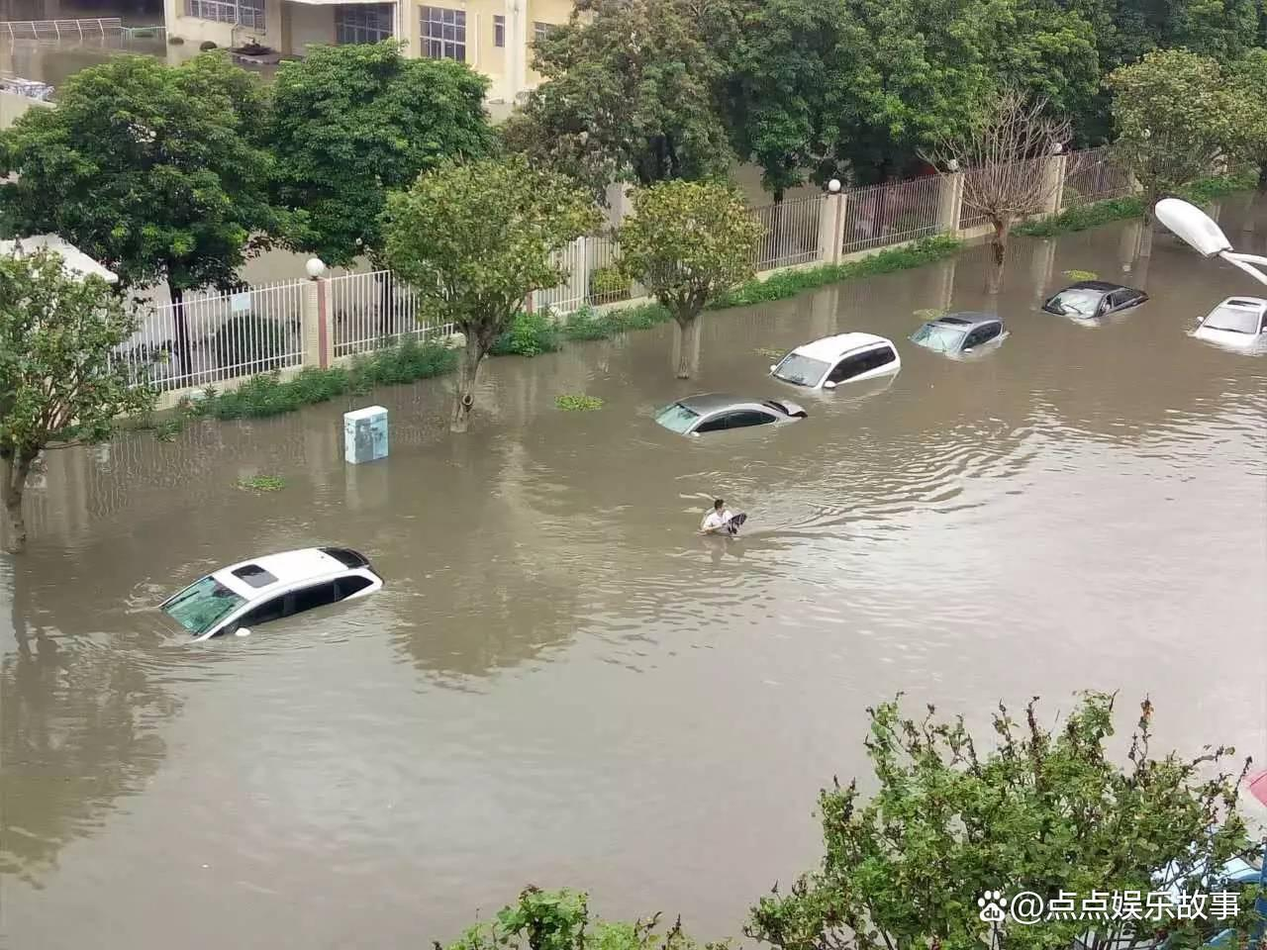water: (0, 485, 1266, 949), (1, 315, 1265, 661), (23, 218, 1262, 503)
